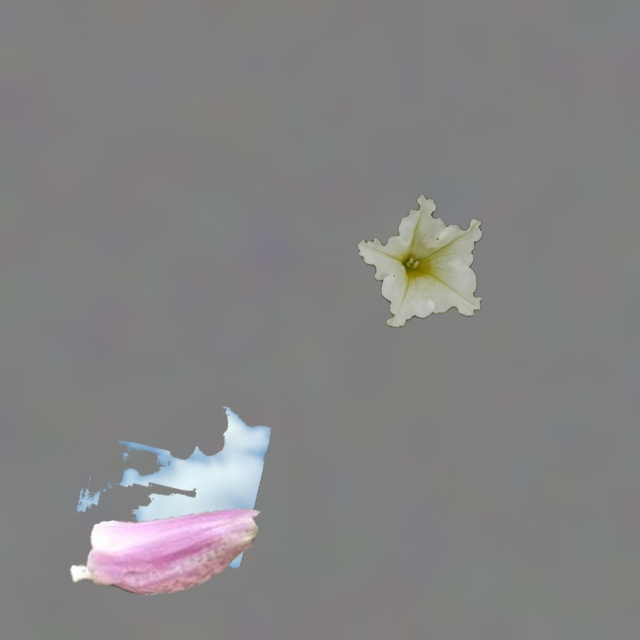foxglove: (77, 406, 270, 567), (70, 509, 259, 594)
petunia: (357, 194, 481, 327)
